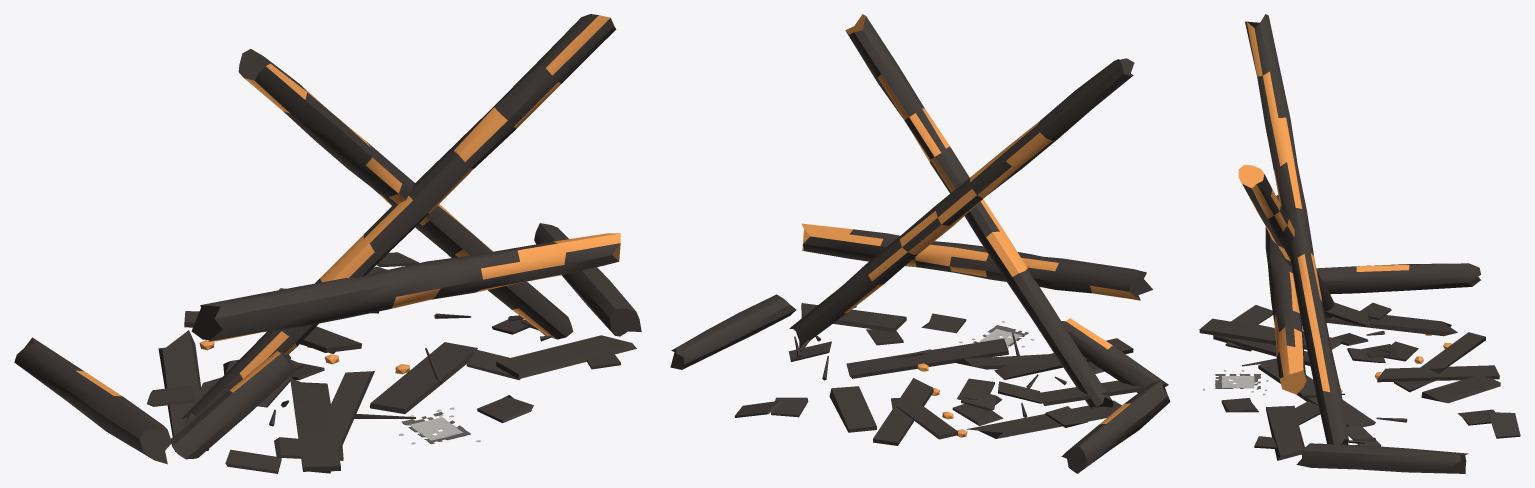
The model's file is cabin_fire.glb.
3 renders of one model, left to right at view 1: azimuth 30°, elevation 25°; view 2: azimuth 150°, elevation 25°; view 3: azimuth 270°, elevation 25°, orthographic. The views are drawn at different scales.
Parts seen in each view (by area): view 1: RoofDebris, BeamA, BeamC, BeamStubs, BeamB, AshSheet; view 2: RoofDebris, BeamB, BeamC, BeamStubs, BeamA, AshSheet; view 3: RoofDebris, BeamB, BeamStubs, BeamA, BeamC, AshSheet.
Part boxes in pixels (left/top/right/bottom): RoofDebris: left=147, top=252, right=636, bottom=473; BeamA: left=191, top=233, right=620, bottom=341; BeamC: left=181, top=14, right=616, bottom=426; BeamStubs: left=14, top=223, right=641, bottom=464; BeamB: left=238, top=49, right=573, bottom=339; AshSheet: left=399, top=407, right=480, bottom=444; RoofDebris: left=734, top=303, right=1141, bottom=445; BeamB: left=789, top=58, right=1134, bottom=347; BeamC: left=845, top=14, right=1113, bottom=408; BeamStubs: left=670, top=294, right=1170, bottom=473; BeamA: left=801, top=223, right=1152, bottom=300; AshSheet: left=959, top=321, right=1034, bottom=348; RoofDebris: left=1199, top=302, right=1520, bottom=460; BeamB: left=1245, top=14, right=1348, bottom=444; BeamStubs: left=1296, top=263, right=1481, bottom=473; BeamA: left=1265, top=195, right=1306, bottom=394; BeamC: left=1238, top=165, right=1334, bottom=318; AshSheet: left=1203, top=370, right=1268, bottom=395.
Size of the model in its own units: 2.57 by 1.91 by 1.77.
